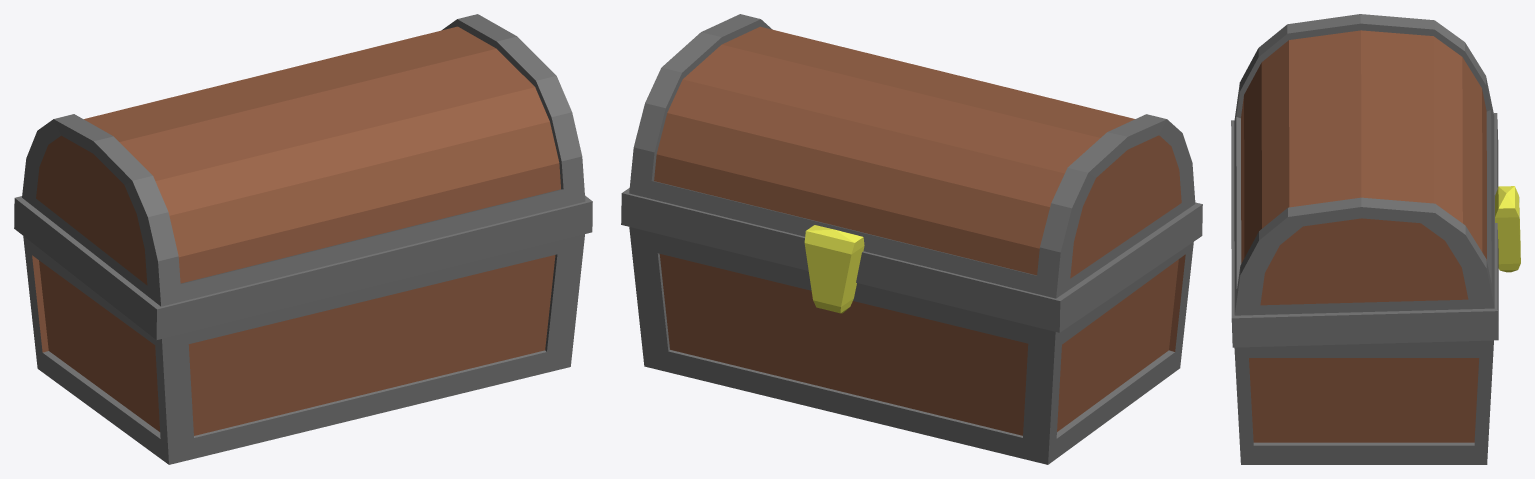
File: ChestClosed.gltf
3 renders of one model, left to right at view 1: azimuth 30°, elevation 25°; view 2: azimuth 150°, elevation 25°; view 3: azimuth 270°, elevation 25°, orthographic. The views are drawn at different scales.
Visible parts, largest first — view 1: Plane, Plane_001; view 2: Plane, Plane_001, Plane_002; view 3: Plane, Plane_001, Plane_002.
Boxes of the visible parts, x1,y1,x2,y2 form: Plane: (14, 14, 592, 340); Plane_001: (23, 234, 584, 464); Plane: (621, 14, 1202, 332); Plane_001: (629, 227, 1193, 464); Plane_002: (804, 225, 864, 313); Plane: (1231, 14, 1498, 347); Plane_001: (1234, 340, 1493, 464); Plane_002: (1495, 186, 1520, 272).
Bounding box in the file's own units: 0.8852 × 0.5442 × 0.5434.
